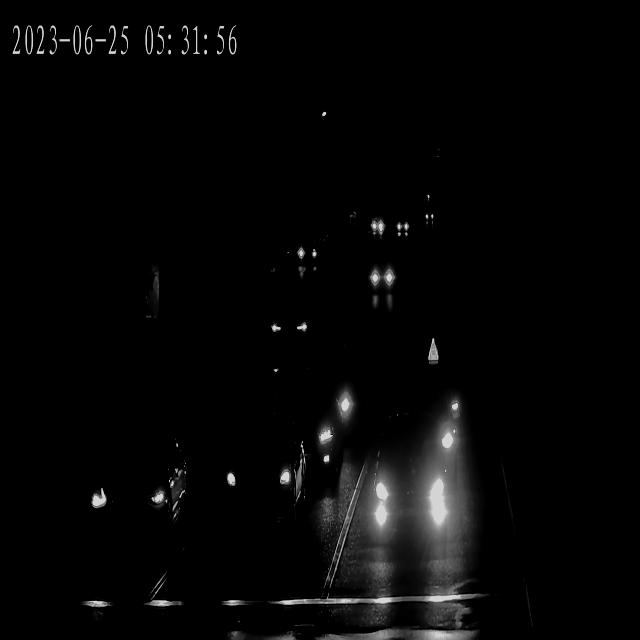Car: (85, 429, 193, 556), (365, 437, 452, 553), (225, 422, 306, 532), (273, 378, 342, 482), (394, 381, 459, 483), (304, 346, 361, 451), (262, 298, 313, 355), (365, 255, 395, 302), (298, 230, 320, 272), (365, 211, 385, 242), (420, 206, 437, 228), (394, 212, 409, 234)
